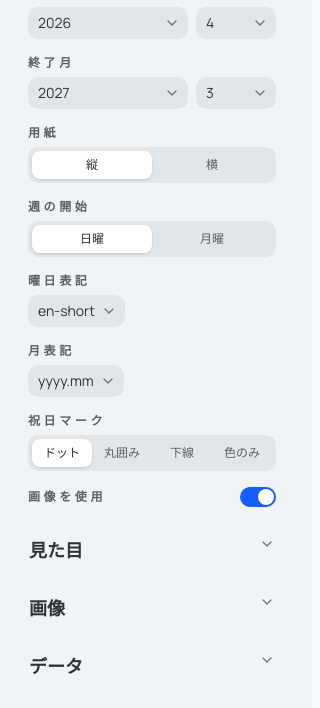
Test case: Sidebar › renders settings actions inside data section when expanded
This screenshot has width=320, height=708.
(page scrolled)
Expand data section
Click the button "データ" at (56, 666), box [16,641,288,691]
(page scrolled)
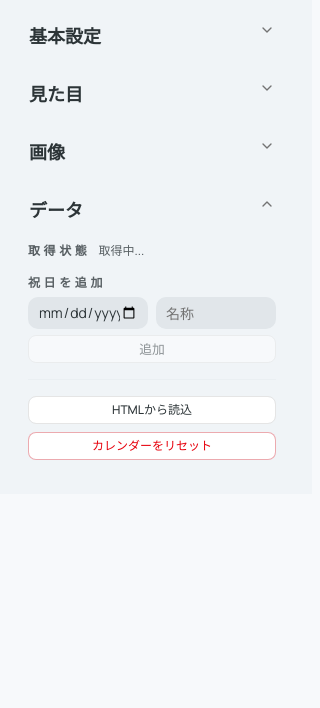
Check: the button "HTMLから読込" is shown, box [28,396,276,424]
Check: the button "カレンダーをリセット" is shown, box [28,432,276,460]
